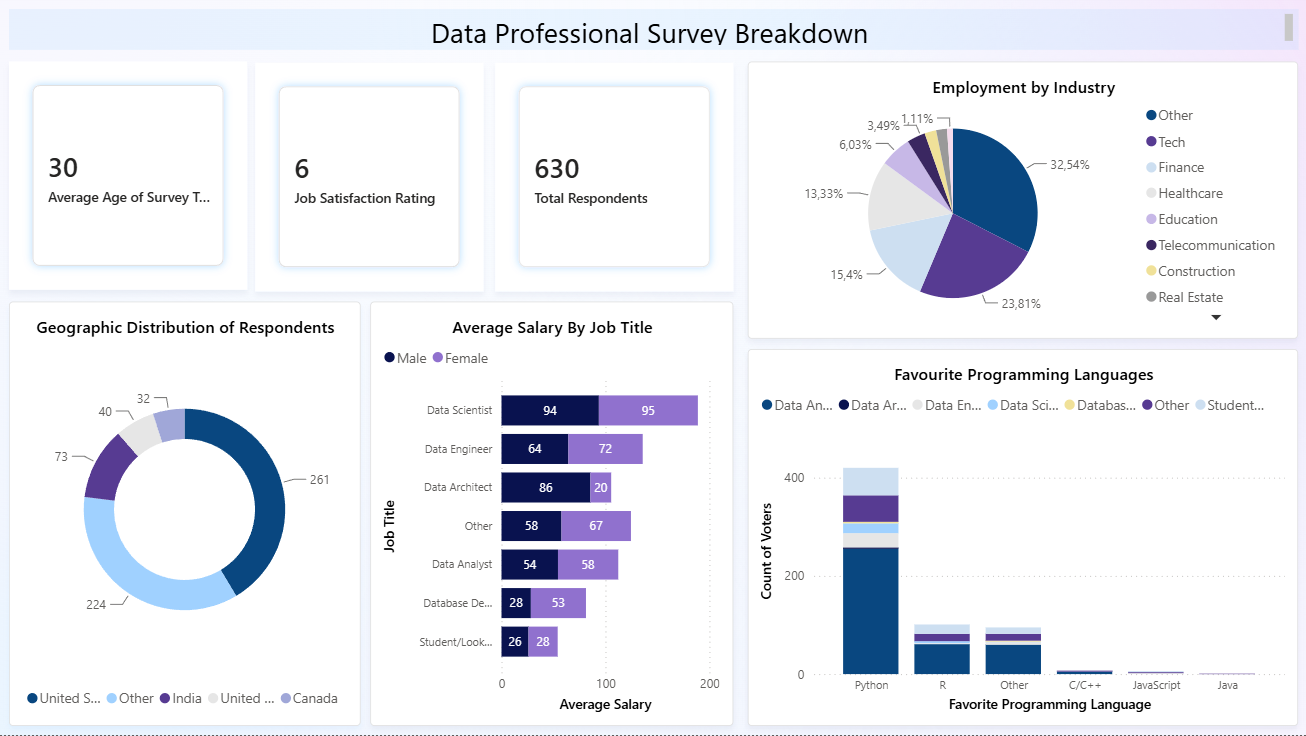

The page's visual inventory and layout, read from the dashboard file:
{"tool":"powerbi","page":{"name":"Page 1","canvas":[1280,720],"ordinal":0},"visuals":[{"type":"cardVisual","fields":{"Data":["Count(Data Professional Survey.Unique ID)"]},"box":[485,62.5,233.8,223.8],"z":0},{"type":"cardVisual","fields":{"Data":["Avg(Data Professional Survey.Q10 - Current Age)"]},"box":[10,61.2,233.8,223.8],"z":1000},{"type":"barChart","title":"Average Salary By Job Title","fields":{"Category":["Data Professional Survey.Q1 - Which Title Best Fits your Current Role?.1"],"Y":["Avg(Data Professional Survey.Average Salary)"],"Series":["Data Professional Survey.Q9 - Male/Female?"]},"box":[363.8,296.2,355,415],"z":2000},{"type":"columnChart","title":"Favourite Programming Languages","fields":{"Category":["Data Professional Survey.Q5 - Favorite Programming Language.1"],"Series":["Data Professional Survey.Q1 - Which Title Best Fits your Current Role?.1"],"Y":["CountNonNull(Data Professional Survey.Unique ID)"]},"box":[732.5,342.5,538.8,368.8],"z":3000},{"type":"donutChart","title":"Geographic Distribution of Respondents","fields":{"Category":["Data Professional Survey.Q11 - Which Country do you live in?.1"],"Y":["CountNonNull(Data Professional Survey.Q11 - Which Country do you live in?.1)"]},"box":[10,296.2,343.8,415],"z":4000},{"type":"cardVisual","fields":{"Data":["Avg(Data Professional Survey.Q6 - How Happy are you in your Current Position with the following? (Work/Life Balance))"]},"box":[251.2,62.5,223.8,223.8],"z":5000},{"type":"pieChart","title":"Employment by Industry","fields":{"Category":["Data Professional Survey.Q4 - What Industry do you work in?.1"],"Y":["CountNonNull(Data Professional Survey.Q4 - What Industry do you work in?.1)"]},"box":[732.5,61.2,538.8,271.2],"z":6000},{"type":"textbox","box":[10,10,1261.2,40],"z":7000}]}

Visuals, with their boxes in screenshot pixels (x1, y1, x2, y2), scaled from the page's 1280x720 canvas onto the 1306x736 screenshot:
cardVisual - Count(Data Professional Survey.Unique ID): select_region(495, 64, 733, 293)
cardVisual - Avg(Data Professional Survey.Q10 - Current Age): select_region(10, 63, 249, 291)
"Average Salary By Job Title" barChart: select_region(371, 303, 733, 727)
"Favourite Programming Languages" columnChart: select_region(747, 350, 1297, 727)
"Geographic Distribution of Respondents" donutChart: select_region(10, 303, 361, 727)
cardVisual - Avg(Data Professional Survey.Q6 - How Happy are you in your Current Position with the following? (Work/Life Balance)): select_region(256, 64, 485, 293)
"Employment by Industry" pieChart: select_region(747, 63, 1297, 340)
textbox: select_region(10, 10, 1297, 51)
